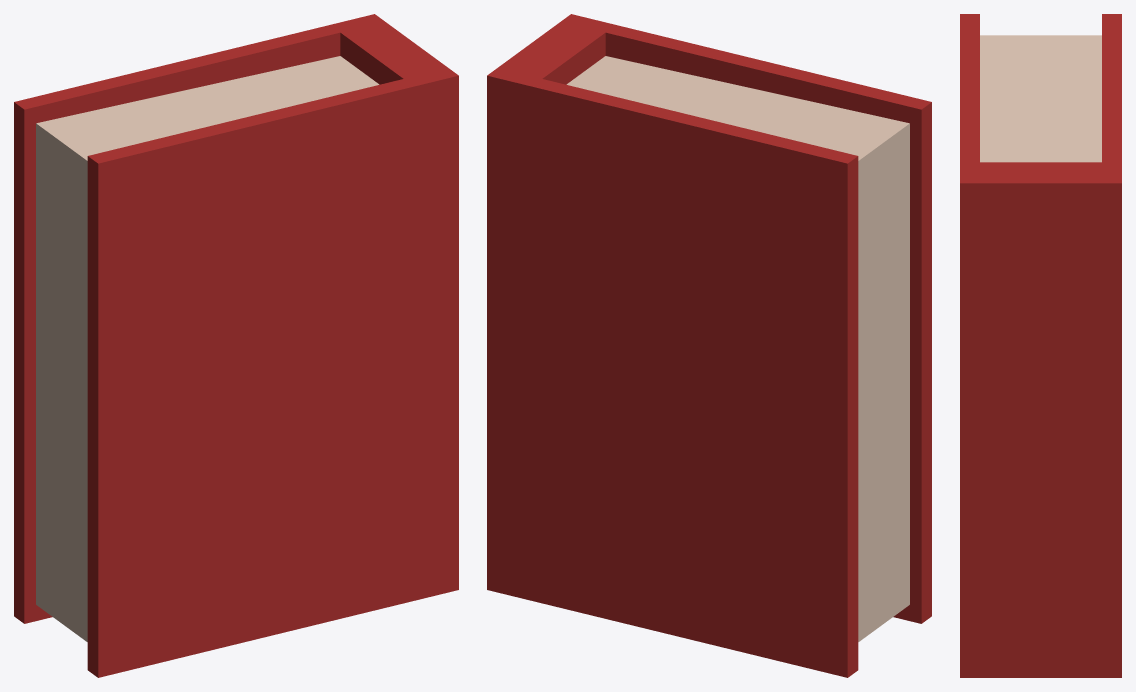
Rendered from Book2.fbx.
3 renders of one model, left to right at view 1: azimuth 30°, elevation 25°; view 2: azimuth 150°, elevation 25°; view 3: azimuth 270°, elevation 25°, orthographic. The views are drawn at different scales.
Visible parts, largest first — view 1: Cube.200; view 2: Cube.200; view 3: Cube.200.
Boxes of the visible parts, x1=… form: Cube.200: x1=14, y1=14, x2=458, y2=677; Cube.200: x1=487, y1=14, x2=931, y2=677; Cube.200: x1=960, y1=14, x2=1121, y2=677.
Bounding box in the file's own units: 44.72 × 60.92 × 18.08.
